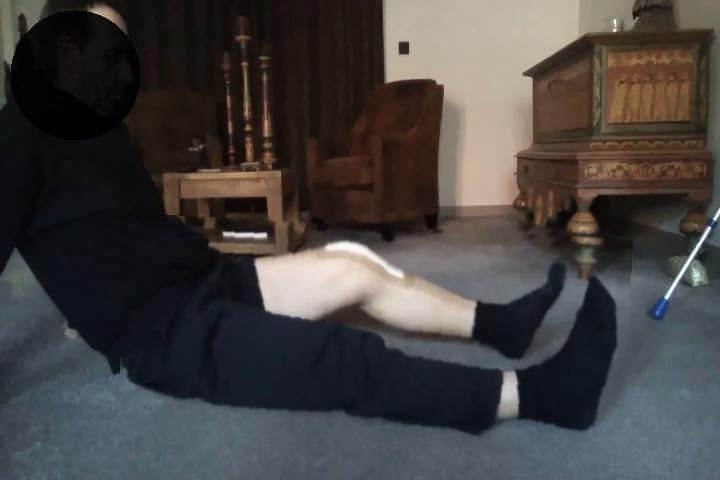lower_body: (121, 220, 631, 448)
